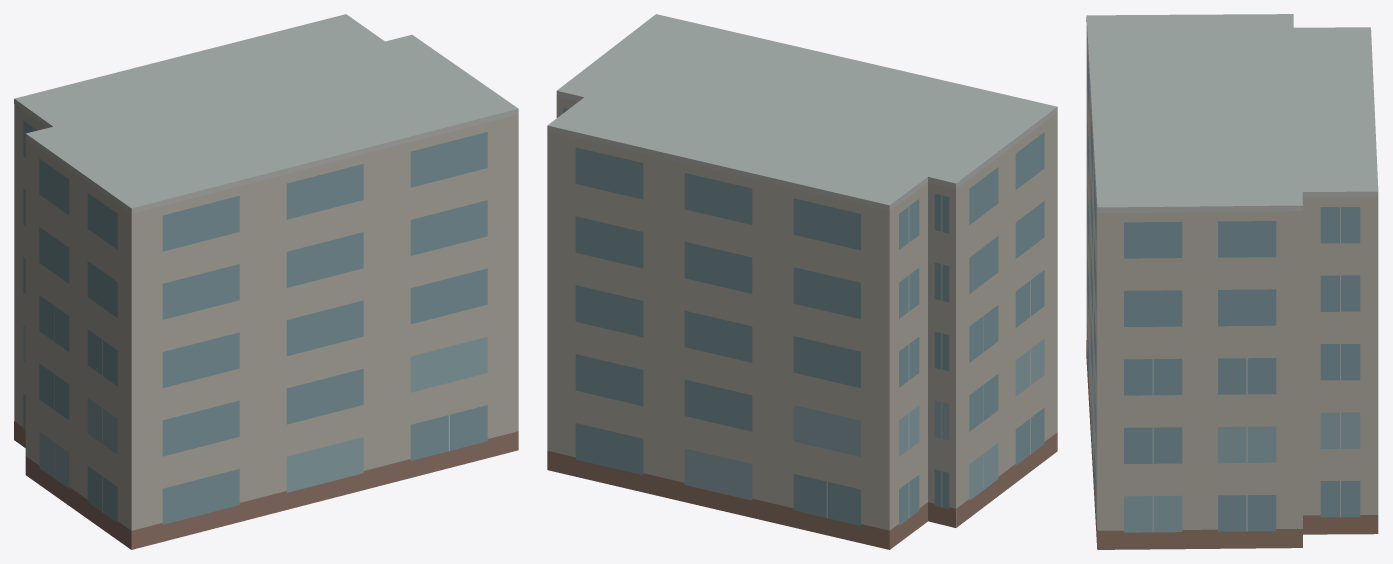
The model's file is survey-upis-32929692.glb.
3 views of the same model, side by side, from view 1: azimuth 30°, elevation 25°; view 2: azimuth 150°, elevation 25°; view 3: azimuth 270°, elevation 25° (orthographic).
Parts seen in each view (by area): view 1: survey-upis-32929692.tmp; view 2: survey-upis-32929692.tmp; view 3: survey-upis-32929692.tmp.
Part boxes in pixels (left/top/right/bottom): survey-upis-32929692.tmp: left=14, top=14, right=518, bottom=549; survey-upis-32929692.tmp: left=547, top=14, right=1057, bottom=549; survey-upis-32929692.tmp: left=1086, top=14, right=1378, bottom=549.
Bounding box in the file's own units: 18.18 × 15 × 11.6.
